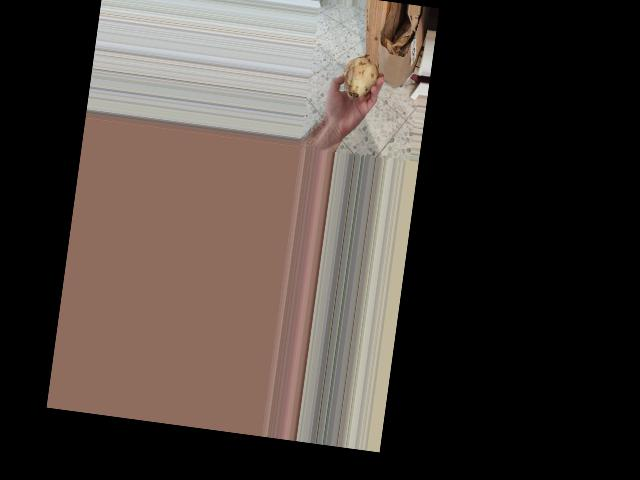onion: (338, 50, 382, 104)
